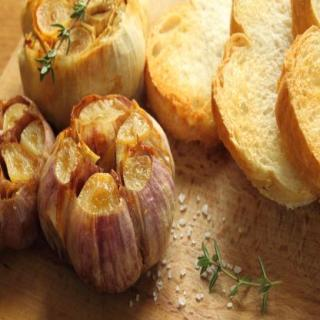Bawang Putih: (37, 94, 177, 296)
